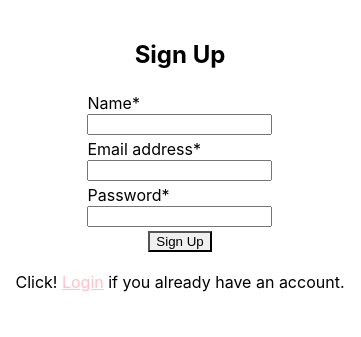
Test case: SignUpPage › displays error message for invalid name format
Type "invalidname" into the field with test id "name". click: (180,124)
box: [88, 114, 272, 135]
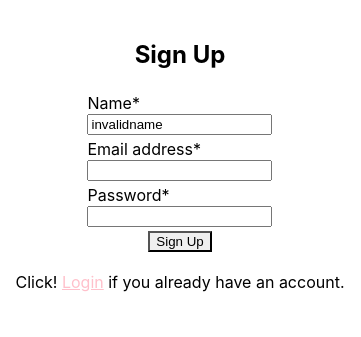
Click the button with test id "signupBtn". click: (180,241)
box: [148, 231, 212, 252]
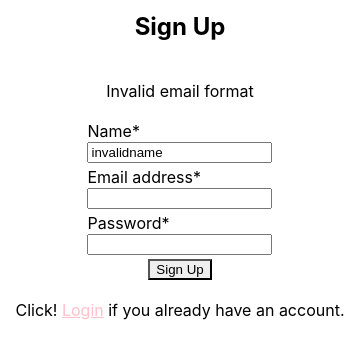
expect the text with test id "error" is shown: met, box [106, 81, 254, 101]
